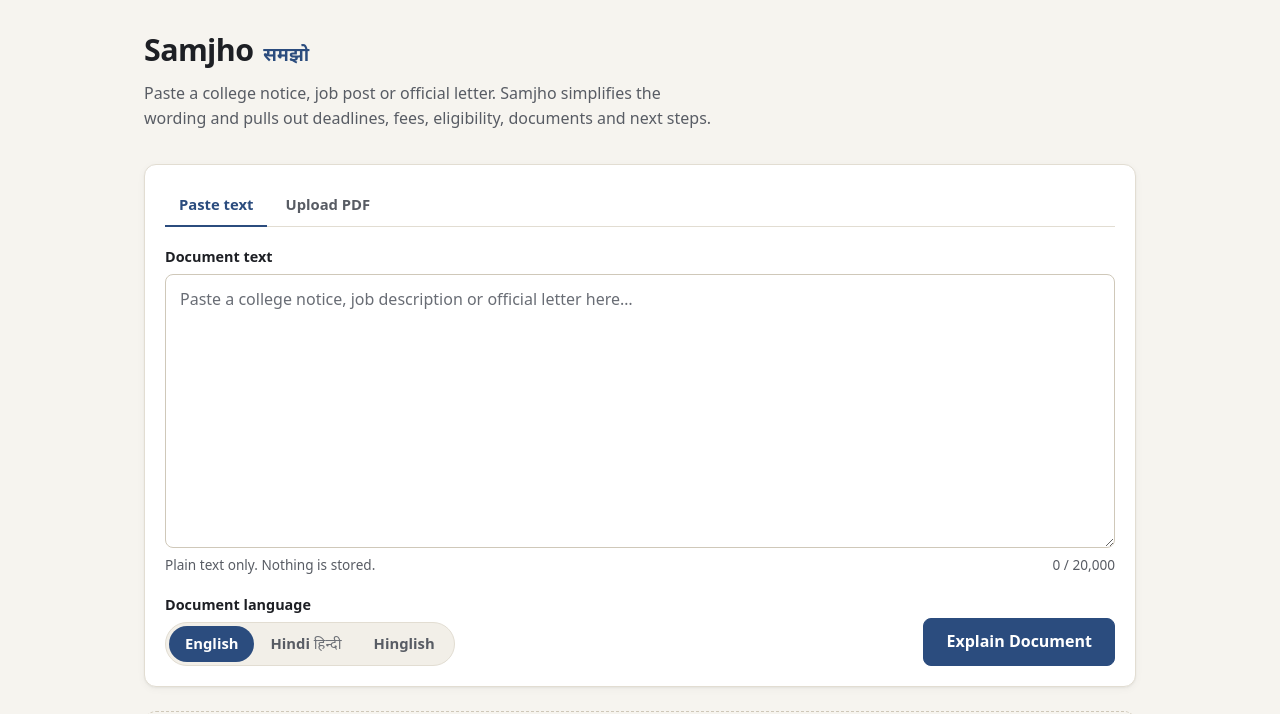
errors › explains when the backend cannot be reached
The image size is (1280, 714).
Click the text box labelled "Document text" at (640, 410), box [165,274,1115,548]
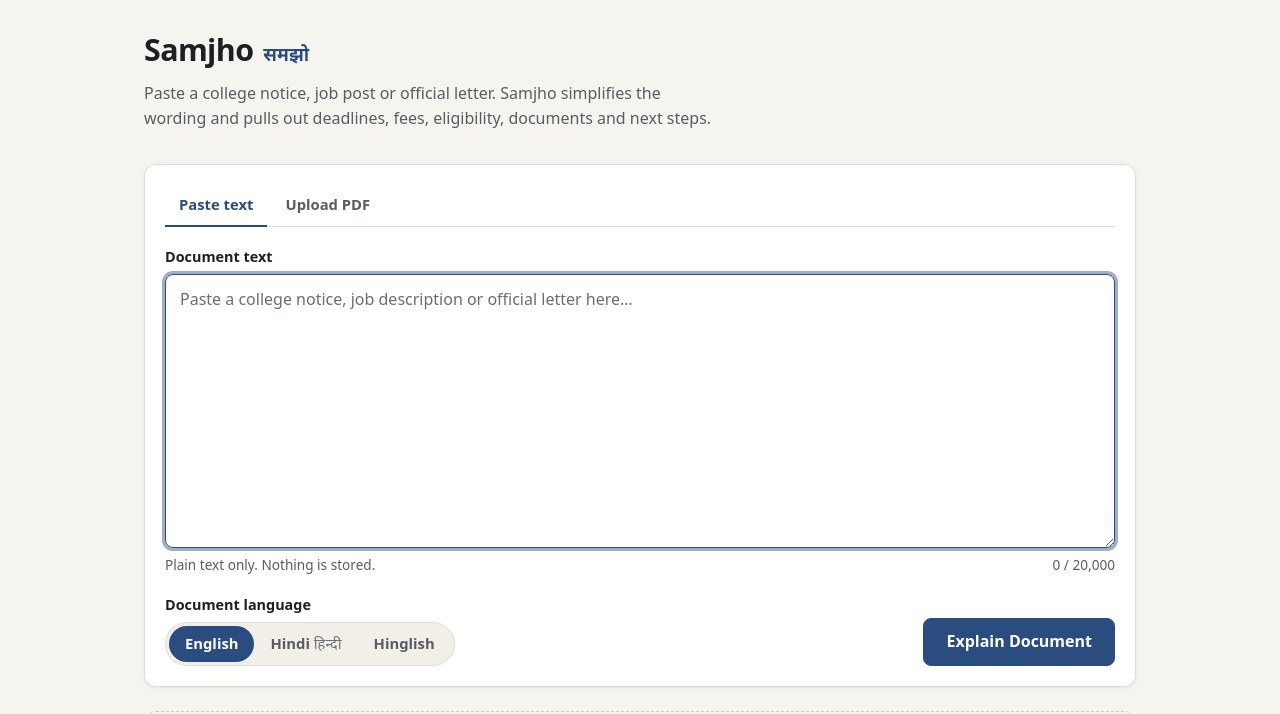
Type keys "Students with at least 60% marks must submit their resume by 15 November 2026. The application fee is ₹500. The library opens at 9 AM."
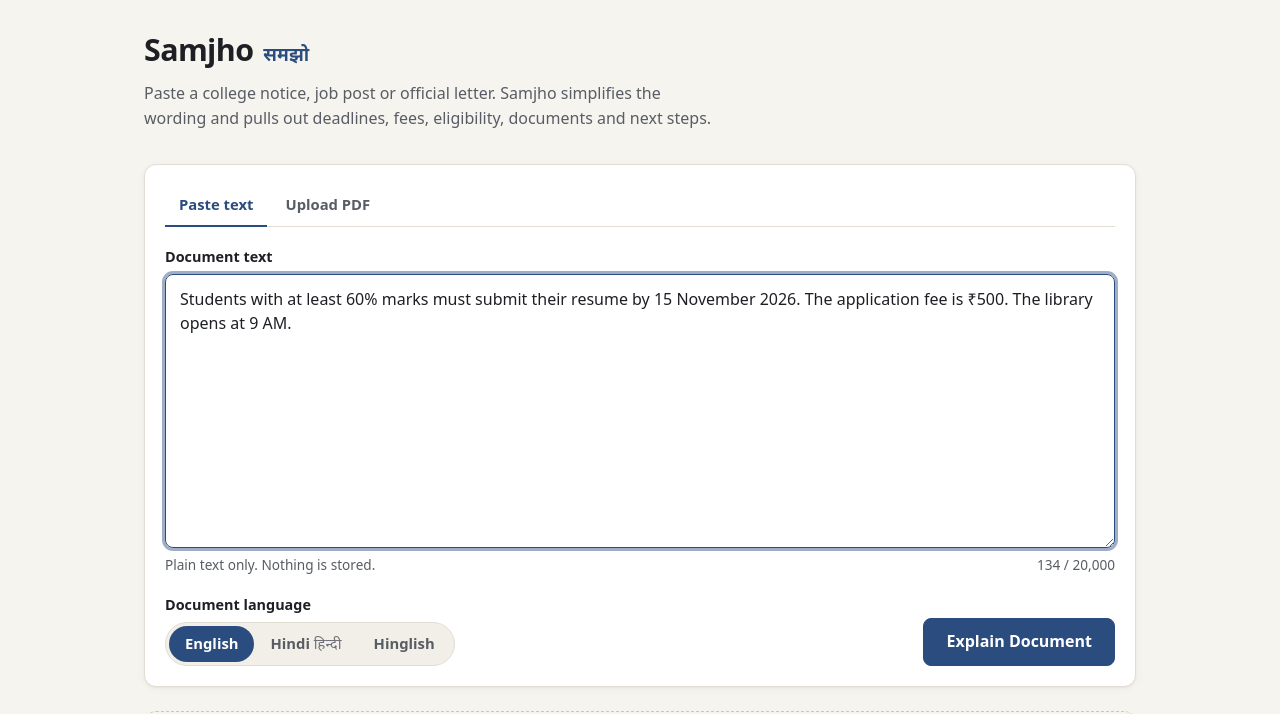
Click the button "Explain Document" at (1019, 642), box [924,618,1115,666]
(page scrolled)
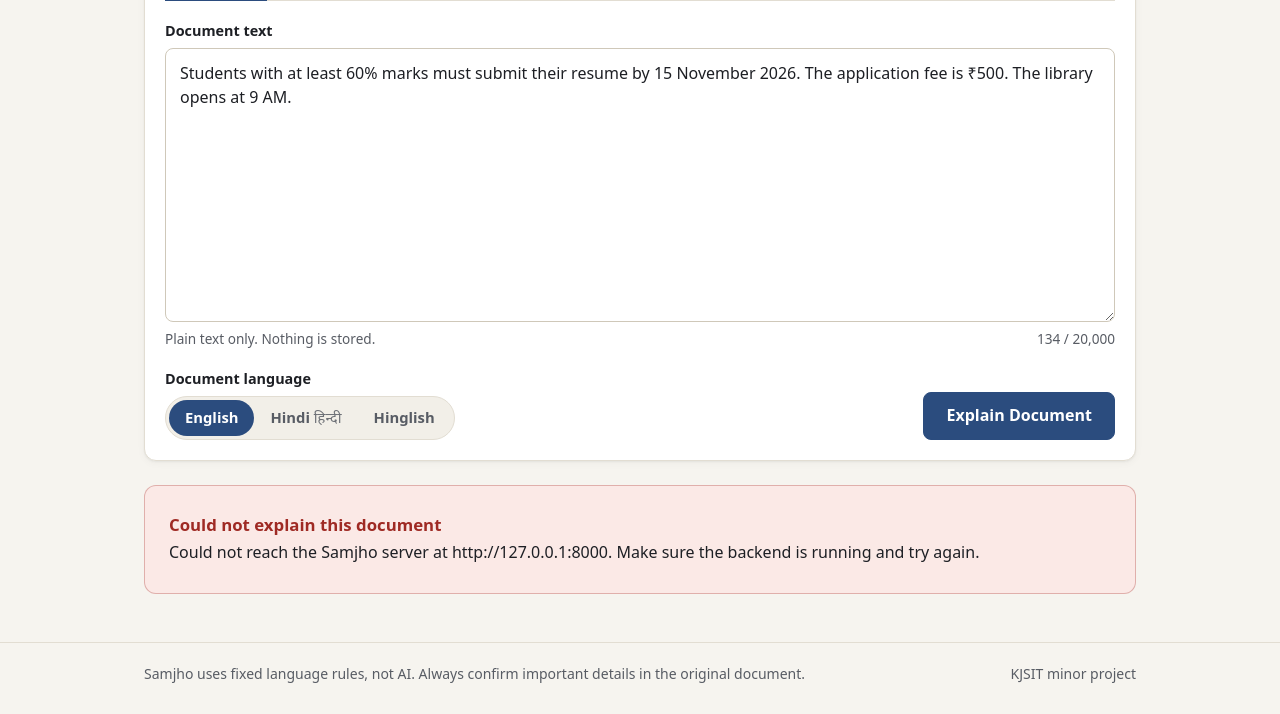
Expected: the message shows "Could not reach the Samjho server", [169,541,979,563]
Expected: the message shows "http://127.0.0.1:8000", [169,541,979,563]
